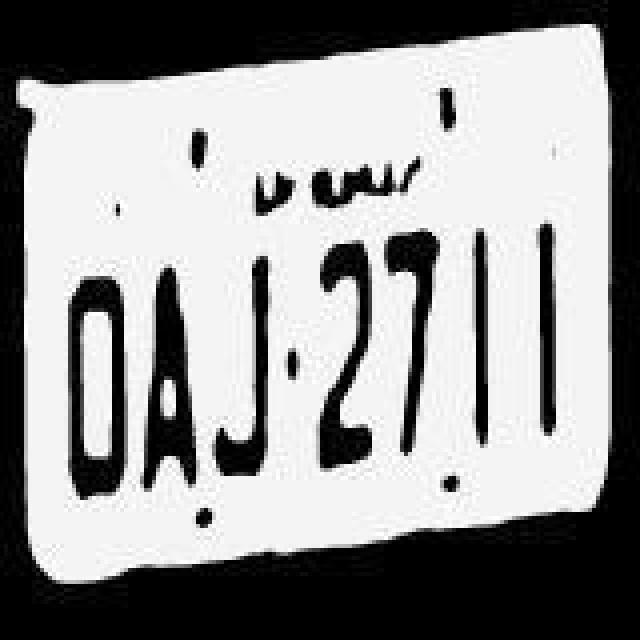1: (520, 222, 576, 474), (458, 230, 510, 490)
2: (312, 230, 384, 498)
7: (382, 228, 450, 484)
A: (132, 254, 204, 506)
J: (206, 242, 282, 510)
O: (60, 260, 132, 516)
